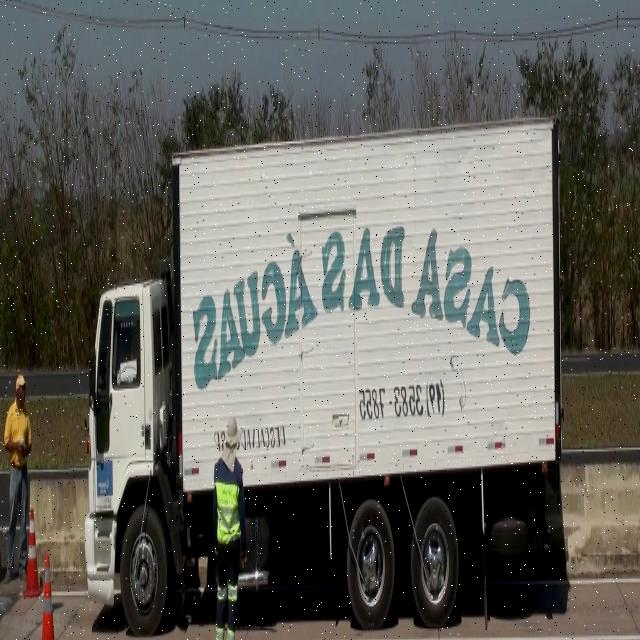-axle: (345, 495, 396, 627), (408, 497, 458, 627), (120, 506, 166, 636)
